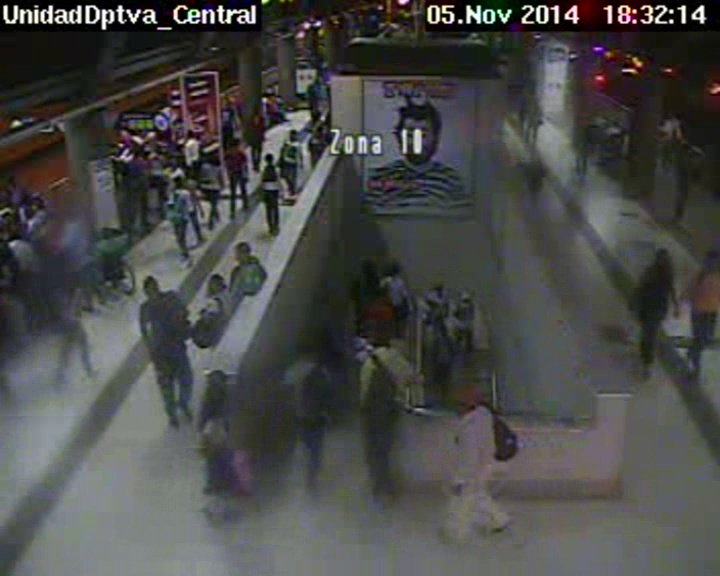person: (453, 386, 480, 412), (141, 276, 166, 301), (205, 370, 229, 392), (651, 243, 672, 267), (298, 344, 318, 364), (233, 241, 253, 259), (203, 275, 223, 292), (703, 249, 720, 269), (377, 329, 394, 348), (207, 390, 224, 407), (64, 202, 80, 219), (372, 287, 388, 303), (66, 272, 82, 287), (362, 258, 378, 273), (30, 195, 45, 211), (170, 174, 184, 188), (390, 263, 403, 278), (5, 178, 18, 191), (262, 151, 274, 163), (434, 282, 445, 295), (678, 144, 689, 157), (461, 291, 472, 303), (287, 129, 298, 141), (204, 153, 216, 164), (309, 109, 320, 121), (12, 229, 23, 241), (231, 136, 241, 149), (100, 225, 113, 235), (439, 325, 450, 336), (316, 125, 326, 137), (250, 105, 260, 116), (530, 154, 541, 164), (668, 108, 678, 118), (132, 148, 142, 158), (186, 128, 195, 139), (150, 143, 159, 152), (230, 106, 239, 115), (264, 85, 272, 94), (314, 76, 322, 85), (532, 95, 540, 103), (267, 95, 275, 103), (221, 98, 229, 106), (226, 94, 234, 102), (579, 118, 587, 125), (272, 83, 279, 90)
